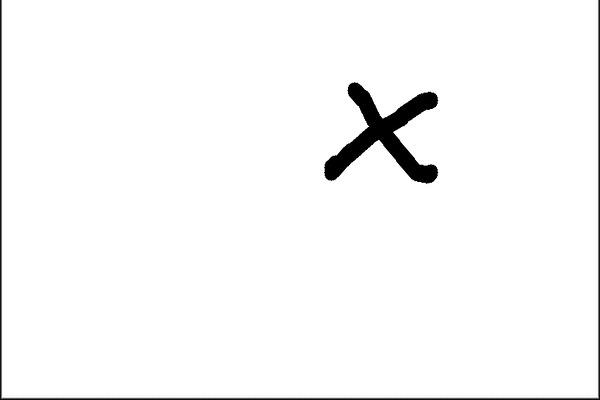X: (296, 59, 455, 198)
